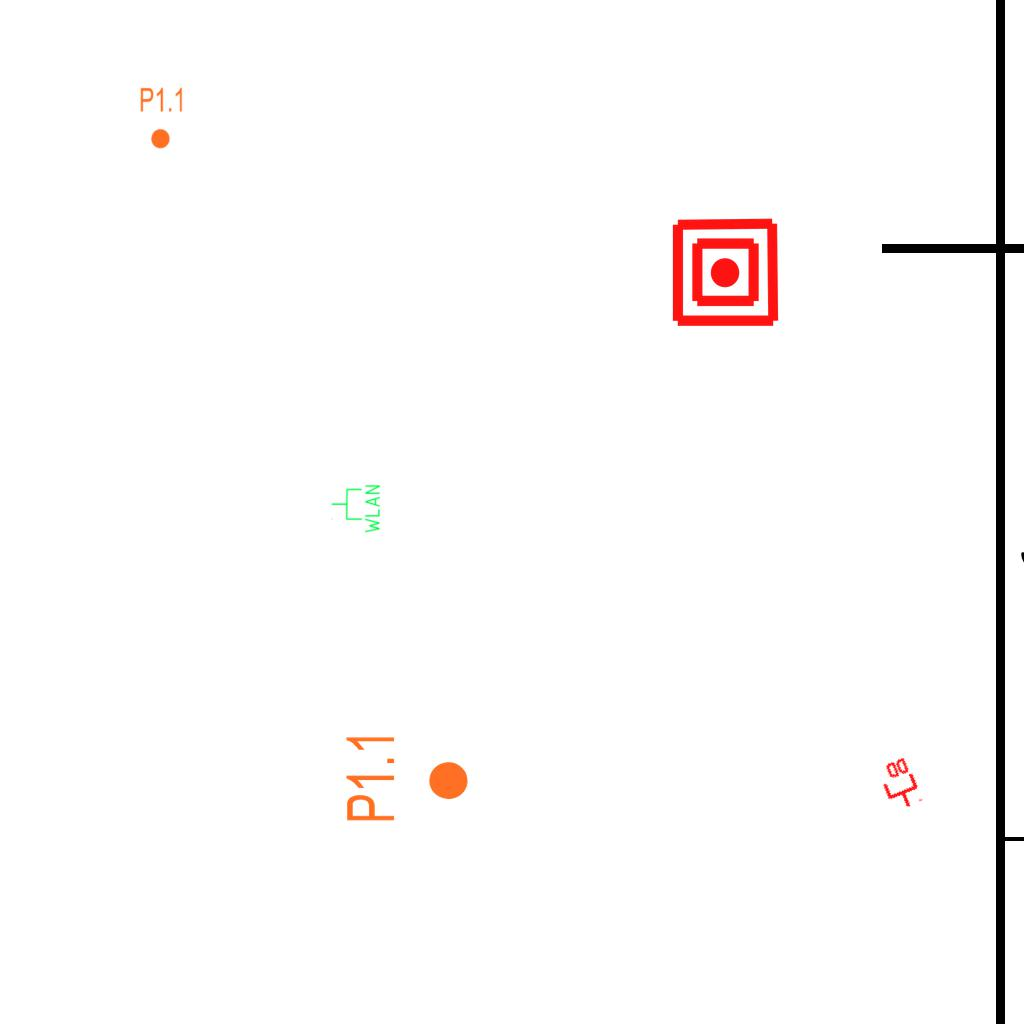Datenanschluss_zweifach: (873, 754, 925, 815)
Downlight_LED_Einbauleuchten_Flur: (343, 731, 471, 824), (139, 86, 185, 150)
NAM-Nichtautomatischer_Melder: (669, 216, 782, 329)
WLAN: (330, 483, 382, 535)
